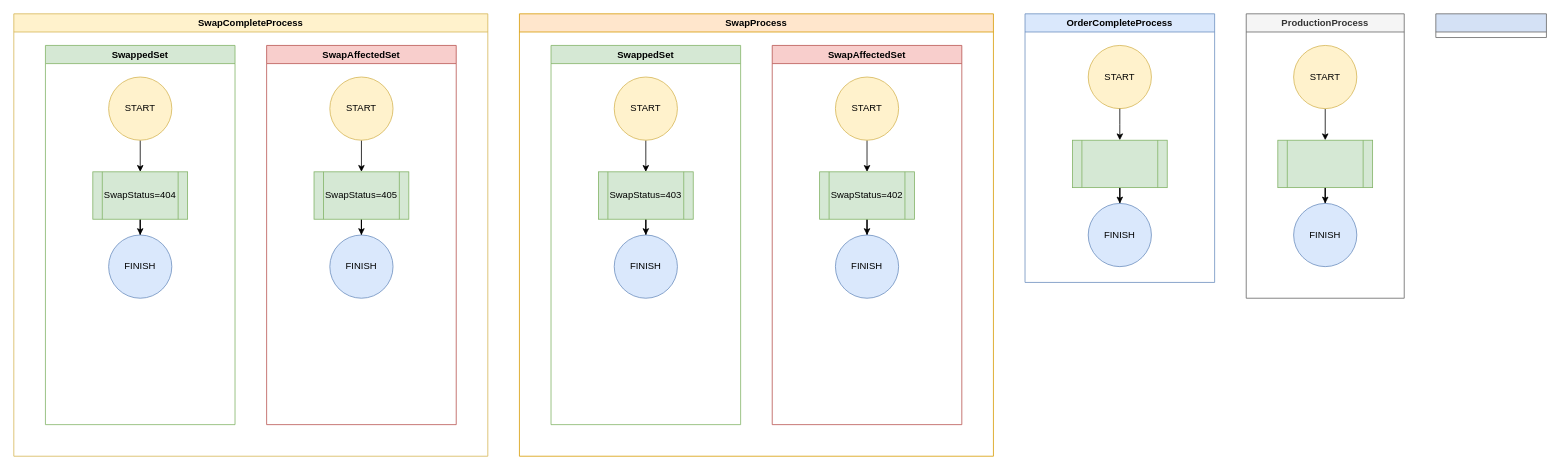
Some shapes in this 1564 by 470 pixel diagram are drawn without their labels. Each missing label, with the centre of its shape:
"SetStatus=201" belongs at pixel 1325 163.
"SetStatus=203" belongs at pixel 1119 163.
"SwapPreparementProcess" belongs at pixel 1490 25.
